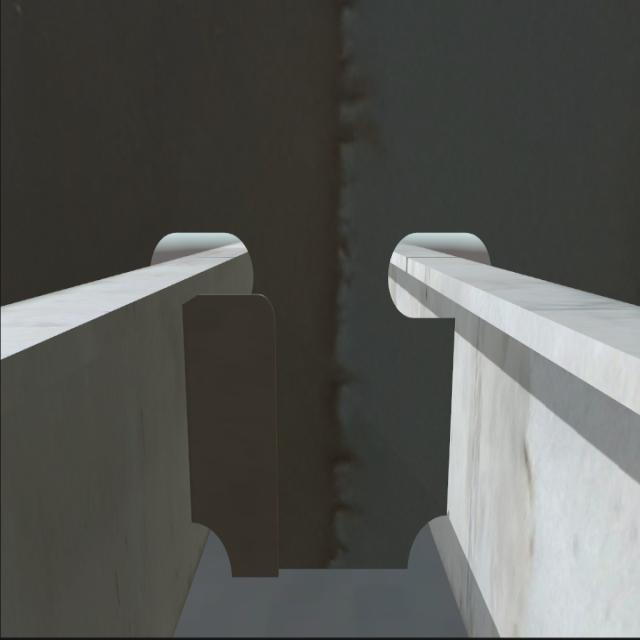fillet_hole: (194, 522, 237, 578), (409, 513, 448, 564)
fillet_yong_jeop_jang: (228, 564, 418, 578)
longi_yong_jeop_jang: (177, 298, 205, 530), (444, 302, 458, 518)
plate_CP05: (183, 291, 284, 577)
